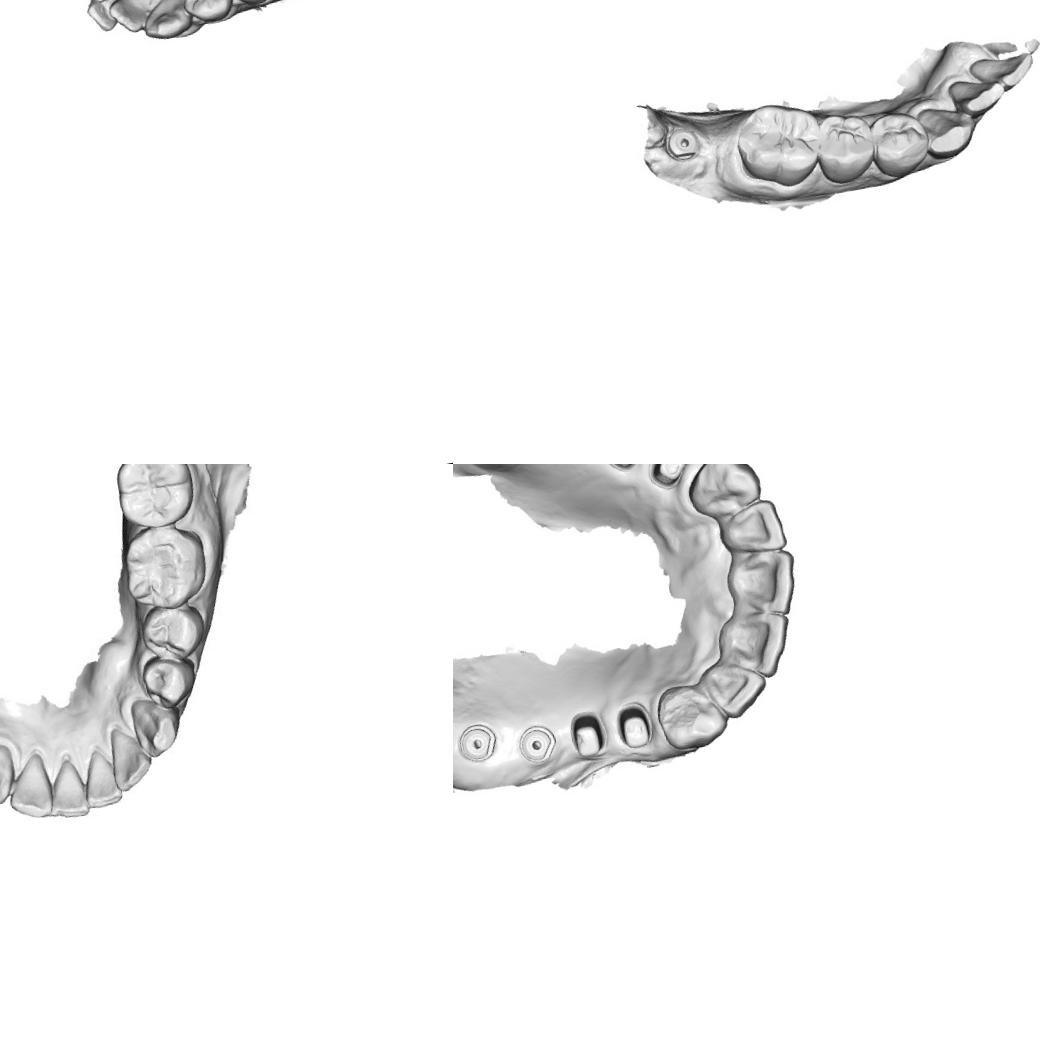abutment: (606, 694, 664, 759), (560, 701, 617, 767), (644, 464, 699, 491)
canine: (653, 676, 731, 755), (680, 464, 766, 523), (917, 98, 978, 162), (127, 693, 187, 758), (136, 0, 192, 43), (0, 744, 19, 808)
implant: (505, 713, 563, 773), (453, 713, 508, 775), (661, 122, 703, 165)
incisor: (713, 605, 799, 685), (718, 545, 804, 624), (695, 653, 774, 726), (713, 493, 790, 564), (962, 41, 1040, 97), (2, 756, 60, 822), (75, 743, 131, 809), (102, 723, 154, 793), (44, 758, 96, 822), (946, 71, 1006, 124), (102, 0, 158, 37), (82, 0, 125, 34)
molar: (727, 92, 832, 197), (120, 519, 210, 616), (109, 464, 198, 532)
premolar: (808, 107, 880, 189), (864, 103, 936, 183), (133, 597, 210, 665), (136, 648, 202, 712), (176, 0, 236, 26)
